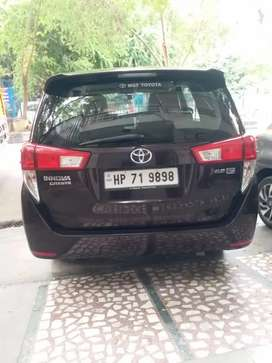HP719898: (104, 166, 178, 188)
